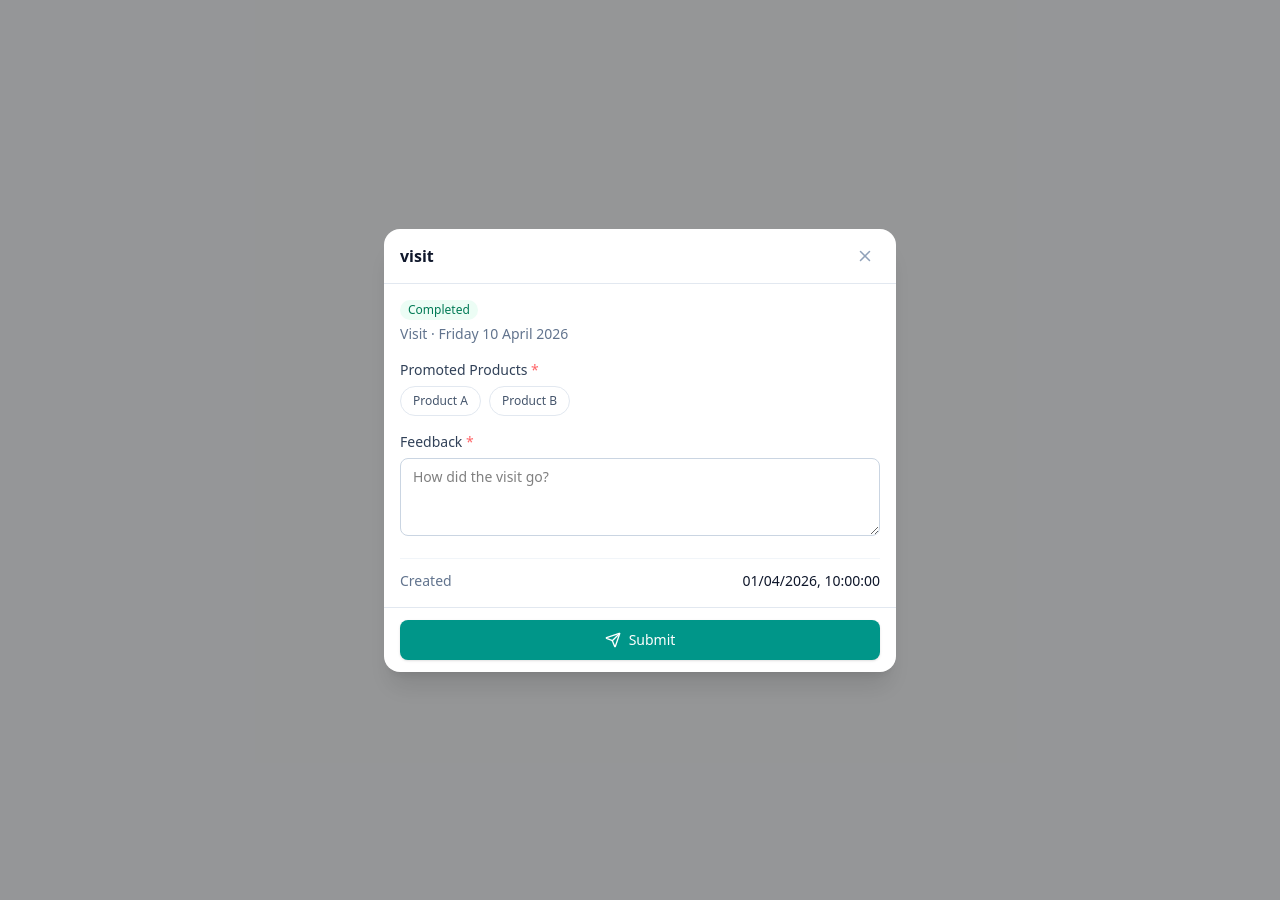
Test case: ActivityDetailModal › shows validation errors on submit when required fields missing
Click the button "Submit" at (640, 640), box [400,620,880,660]
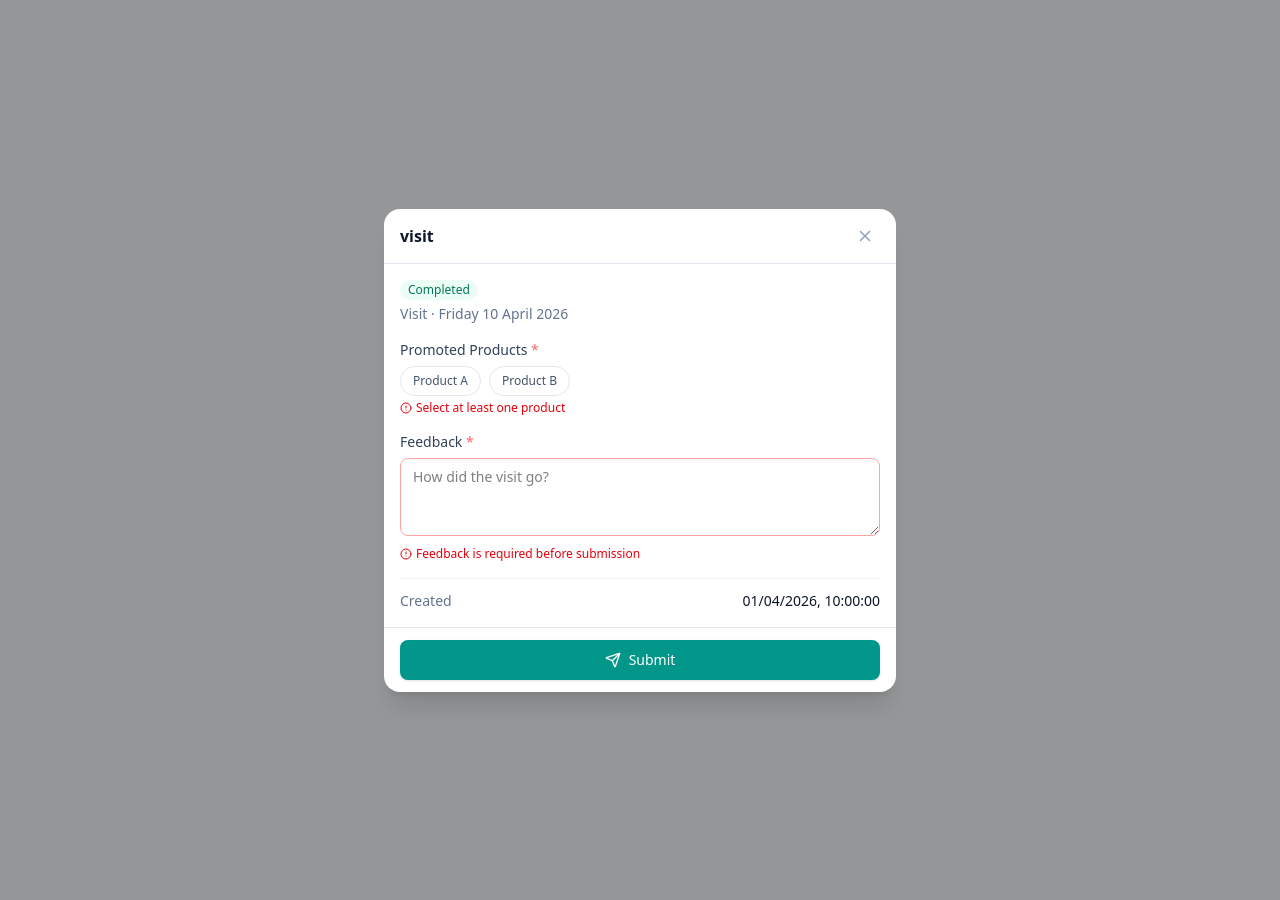
Expected: the text "Feedback is required before submission" is shown, [400,544,640,562]
Expected: the text "Select at least one product" is shown, [400,398,565,416]
